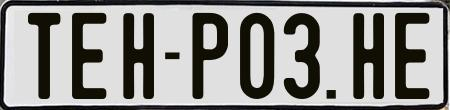0: (238, 12, 277, 102)
3: (284, 13, 325, 99)
E: (395, 10, 429, 100), (71, 13, 105, 100)
H: (350, 10, 387, 96), (123, 13, 156, 104)
P: (191, 11, 230, 103)
T: (27, 10, 61, 99)
